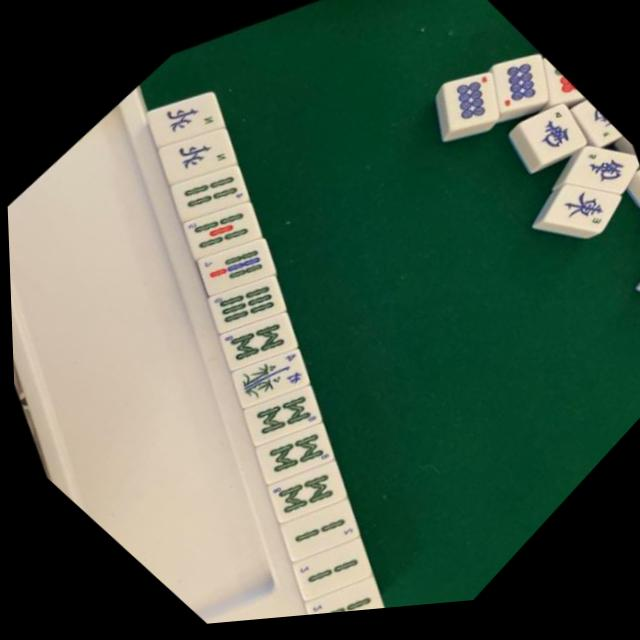bf4: (215, 325, 314, 428)
hwe: (534, 183, 612, 231)
hwn: (146, 103, 239, 199), (138, 71, 224, 160)
hws: (512, 102, 577, 161), (558, 144, 628, 191)
sb2: (276, 516, 378, 622), (268, 479, 365, 579), (292, 555, 388, 621)
sb4: (157, 140, 253, 240)
sb5: (167, 177, 262, 276)
sb6: (190, 251, 287, 352)
sb7: (183, 215, 275, 311)
sb8: (253, 440, 352, 543), (230, 364, 326, 465), (243, 403, 339, 502), (204, 289, 300, 387)
